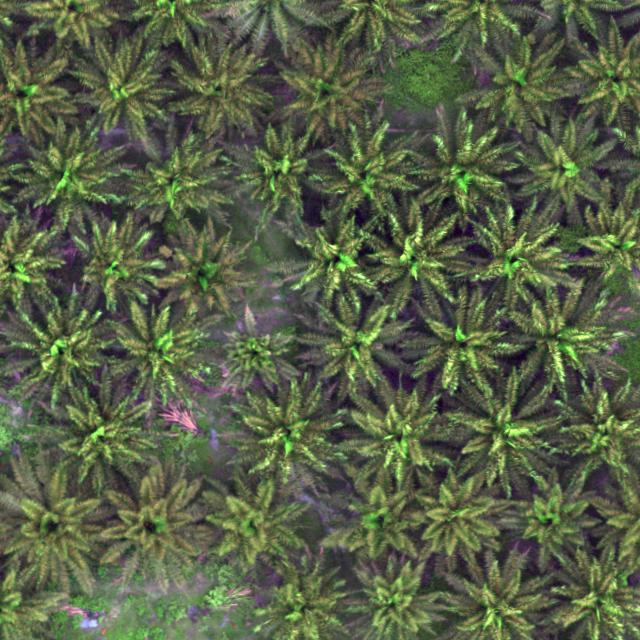oilpalm: (98, 461, 207, 587), (0, 464, 106, 593), (408, 112, 521, 221), (204, 475, 307, 585), (407, 294, 512, 398), (311, 120, 413, 227), (297, 298, 408, 394), (233, 371, 335, 474), (502, 290, 610, 387), (105, 299, 206, 398), (515, 116, 613, 216), (463, 205, 563, 301), (53, 391, 156, 484), (12, 298, 107, 398), (168, 39, 262, 137), (450, 383, 548, 476), (152, 219, 247, 312), (277, 42, 370, 134), (471, 39, 565, 129), (12, 125, 102, 217), (350, 385, 439, 478), (78, 38, 164, 133), (405, 474, 501, 558), (369, 210, 456, 302), (550, 556, 640, 640), (237, 125, 314, 223), (0, 38, 71, 143), (335, 477, 418, 566), (124, 139, 215, 220), (506, 474, 593, 558), (290, 220, 374, 305), (69, 215, 146, 306), (349, 558, 434, 640), (561, 387, 640, 475), (444, 560, 528, 640), (219, 310, 291, 389), (575, 203, 640, 289), (578, 30, 640, 119), (266, 567, 341, 640), (0, 215, 54, 313)
